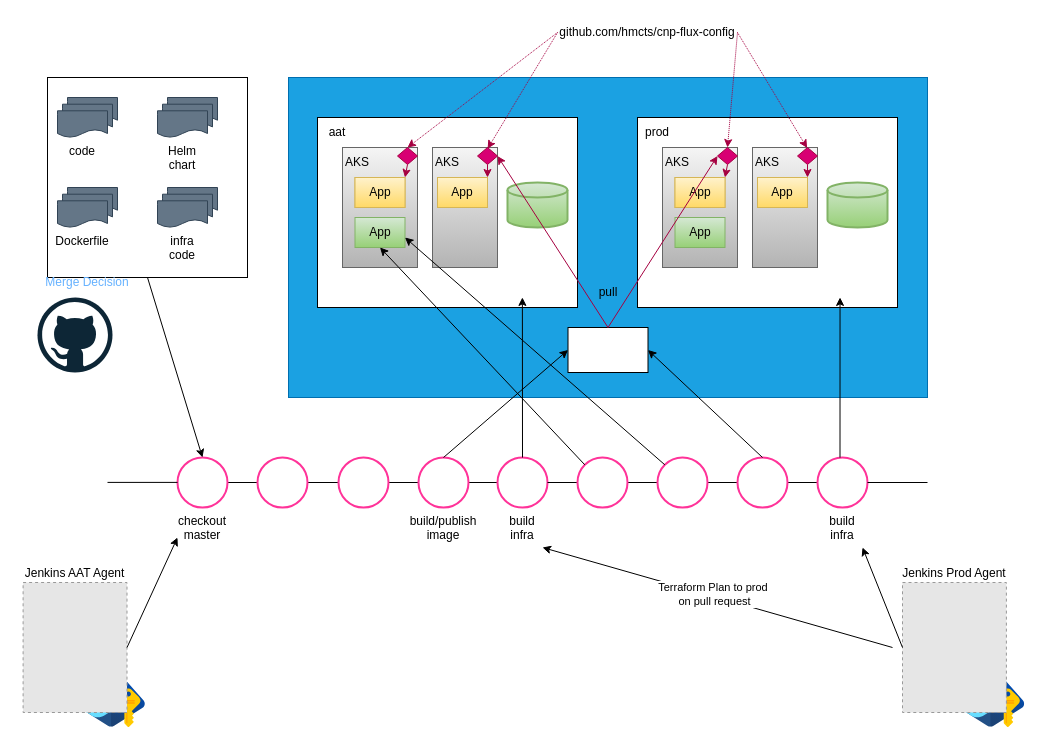
This 1042x744 diagram has some shape labels left out. Grey dashed boxes stand in for pictures. Each missing label, with the box of its shape:
ACR: (567, 326, 648, 372)
build code: (256, 456, 308, 508)
deploy: (576, 456, 628, 508)
dynamic QA: (656, 456, 708, 508)
GitHub: (36, 296, 112, 372)
github.com/hmcts/app: (46, 76, 248, 278)
static QA: (337, 456, 389, 508)
tag image: (736, 456, 788, 508)
